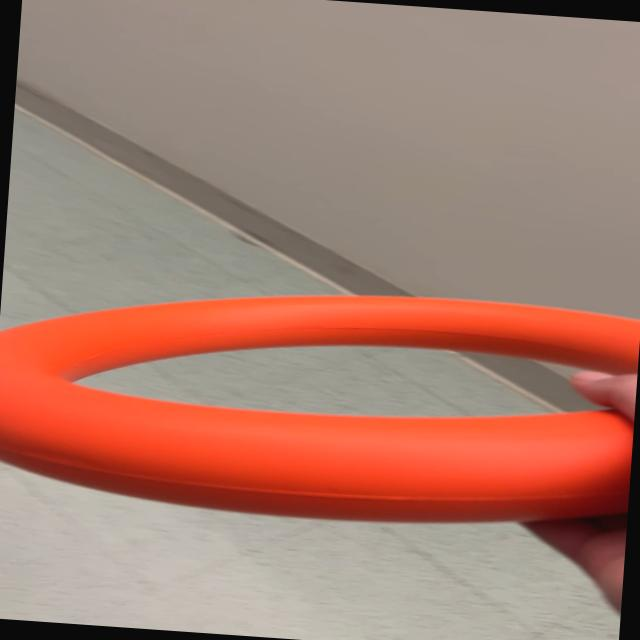note: (0, 265, 639, 542)
